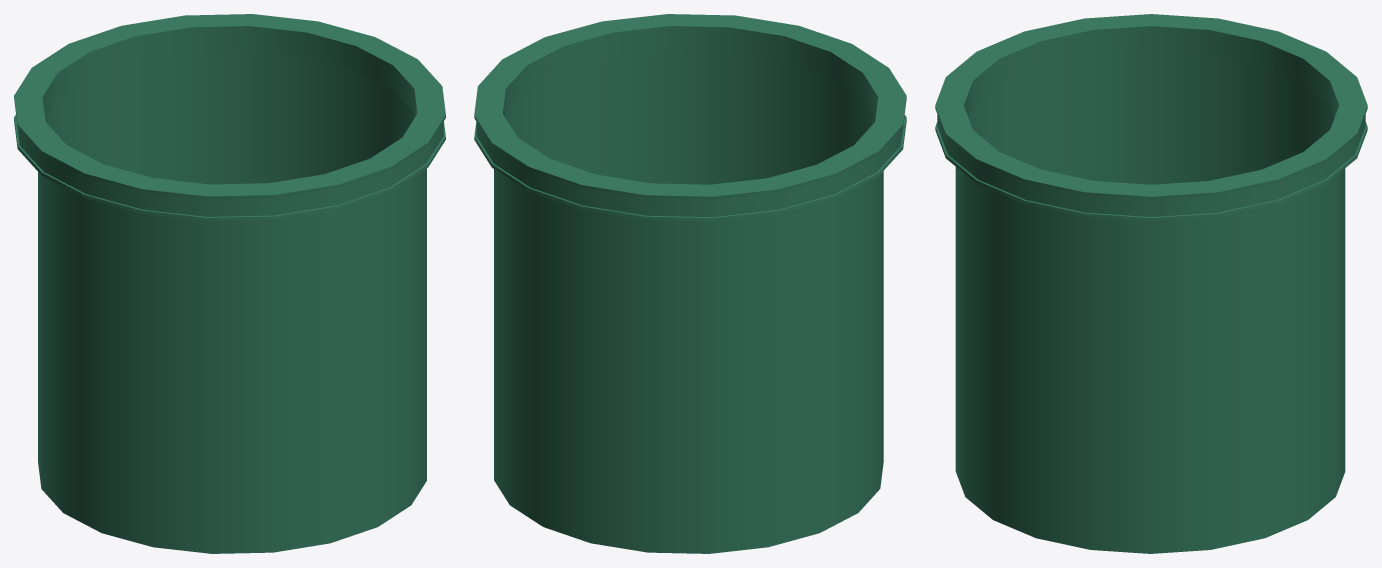
Rendered from World_Pillar.fbx.
The picture shows the model from 3 angles, left to right: view 1: azimuth 30°, elevation 25°; view 2: azimuth 150°, elevation 25°; view 3: azimuth 270°, elevation 25°; orthographic projection.
Parts seen in each view (by area): view 1: Cylinder.004; view 2: Cylinder.004; view 3: Cylinder.004.
Part boxes in pixels (left/top/right/bottom): Cylinder.004: left=14, top=14, right=445, bottom=553; Cylinder.004: left=474, top=14, right=906, bottom=553; Cylinder.004: left=935, top=14, right=1367, bottom=553.
Size of the model in its own units: 186 by 173 by 186.
